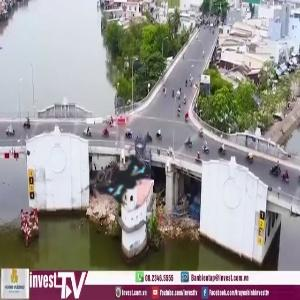drone: (52, 106, 195, 249)
